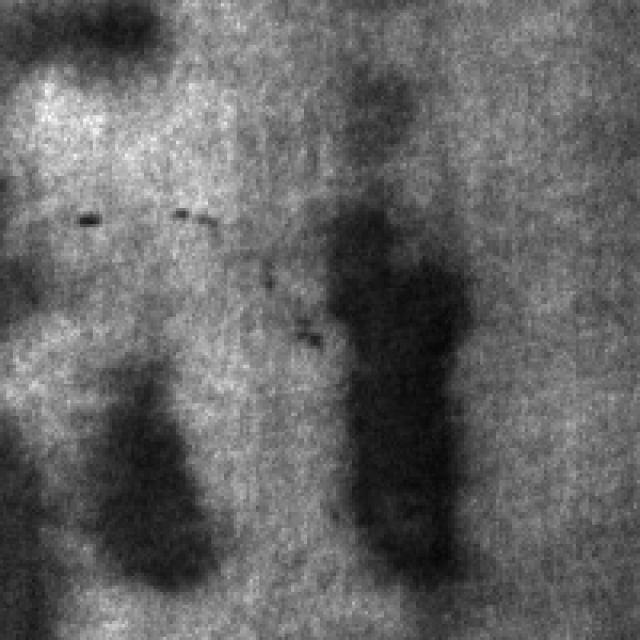patches: (310, 192, 477, 576), (77, 349, 214, 595), (0, 400, 64, 637), (0, 0, 163, 86)
